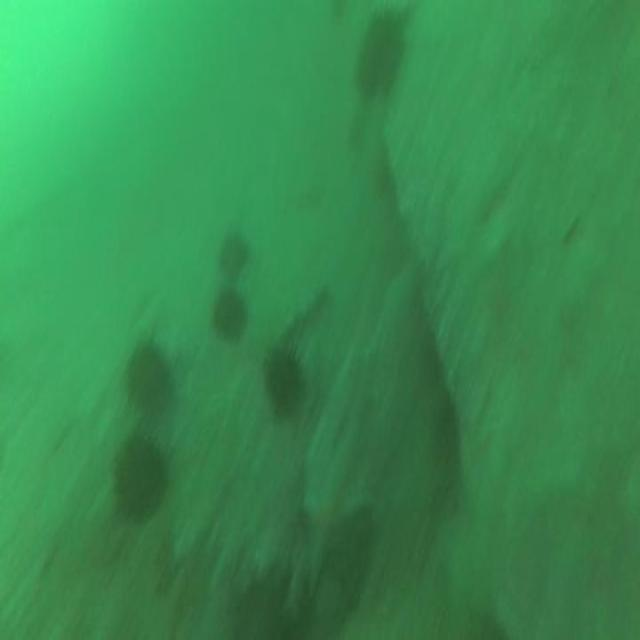echinus: (110, 427, 174, 532), (123, 332, 176, 422), (258, 330, 310, 420), (354, 11, 404, 100), (207, 280, 252, 352), (213, 223, 255, 284)
